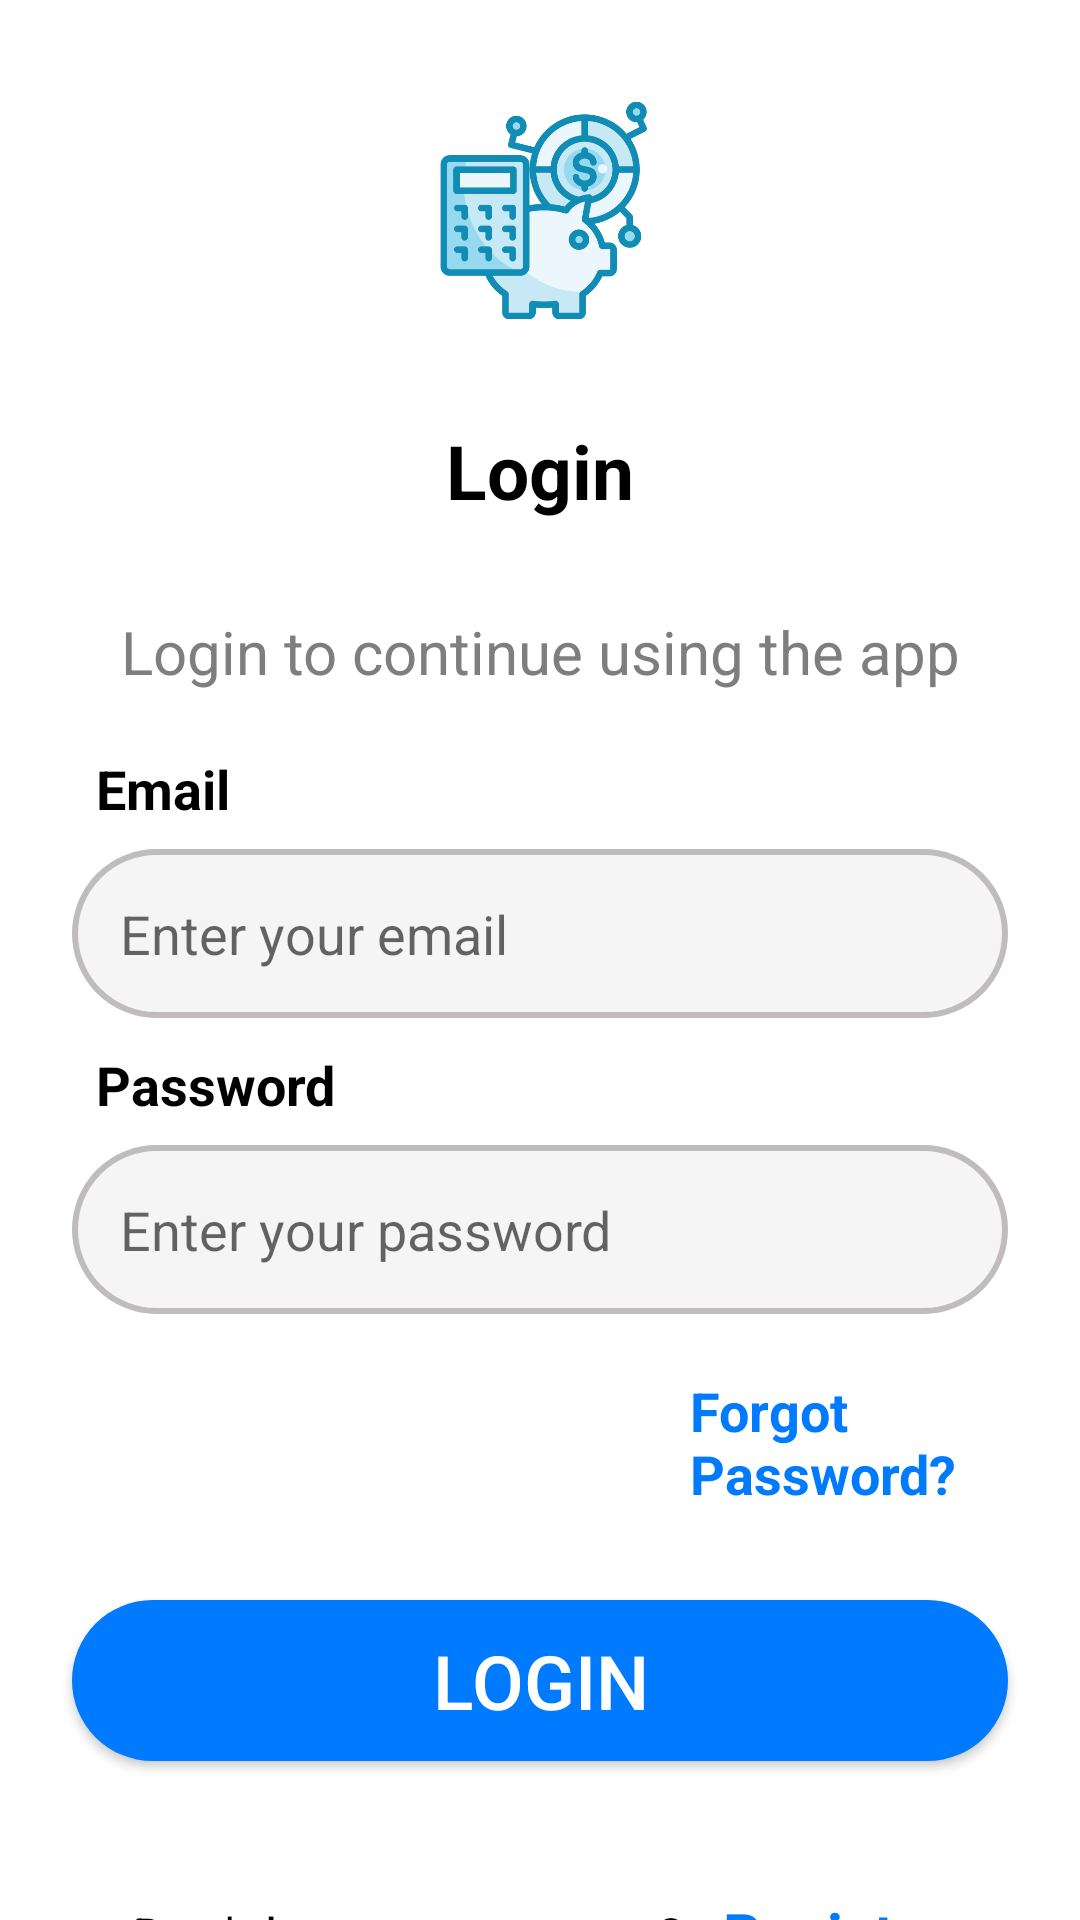

Screen size 1080w x 1920h. Icon name, then its center in pixels as point (x, y):
Illustration: point (543, 210)
